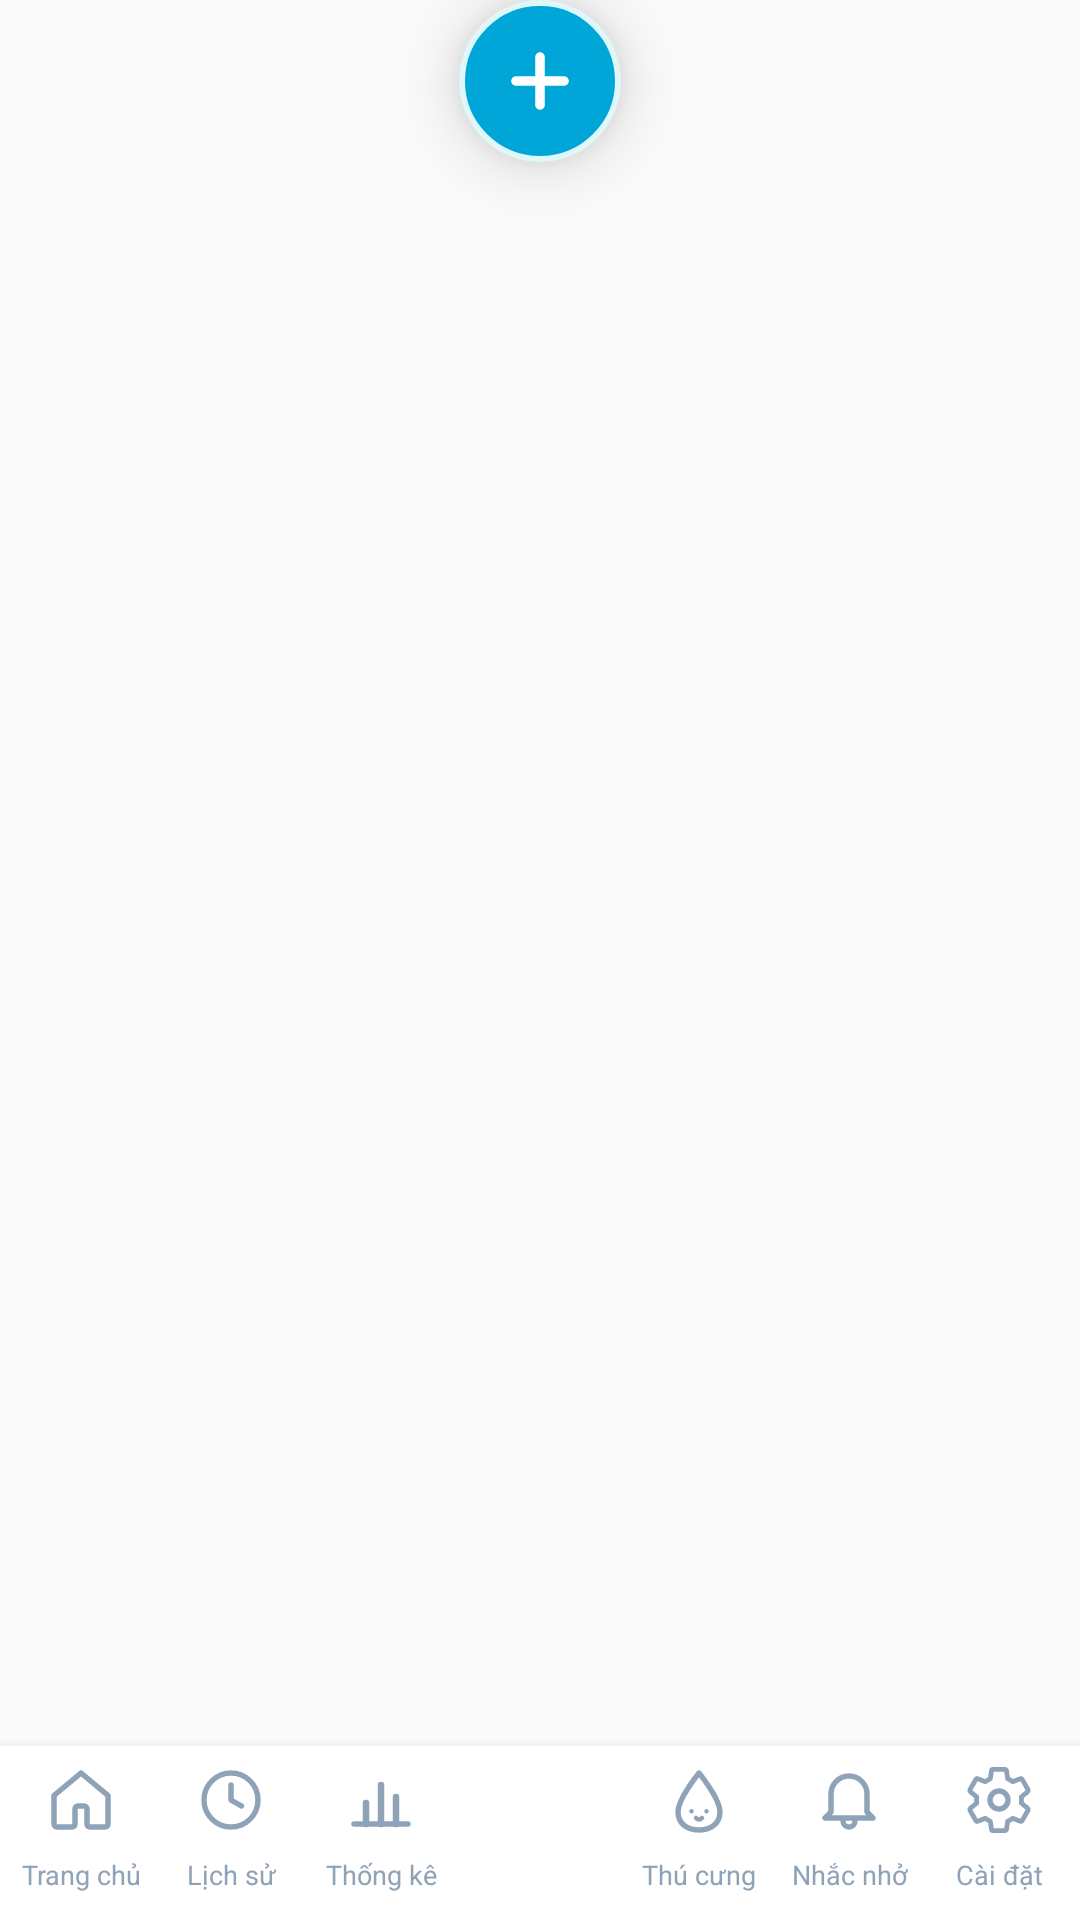

Where icons sit on this 1080px×1920px app screen, as (x1, y1, x2, y2):
Uống nước (+): (465, 6, 615, 156)
